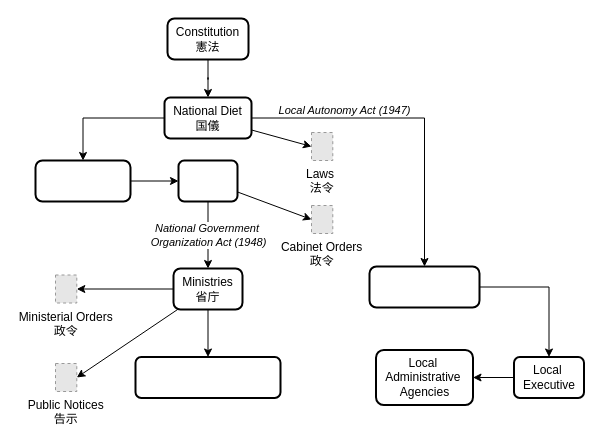
Some shapes in this 602 by 443 pixel diagram are drawn without their labels. Grey dashed boxes stand in for pictures. Each missing label, with the centre of its shape:
Administrative Agencies 行政機関: the point at 207,377
Cabinet 内閣: the point at 207,180
Local Legislative Assemblies: the point at 424,286
Prime Minister 総理大臣: the point at 82,180
